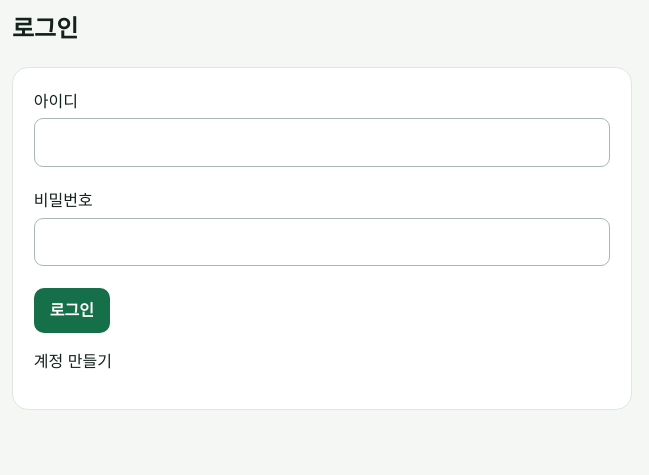
Test case: 폼 검증과 오류 표시 › 로그인 폼이 잘못된 아이디와 빈 비밀번호를 거부한다
Type "ab" into the field labelled "아이디" at (322, 142), box [34,118,610,167]
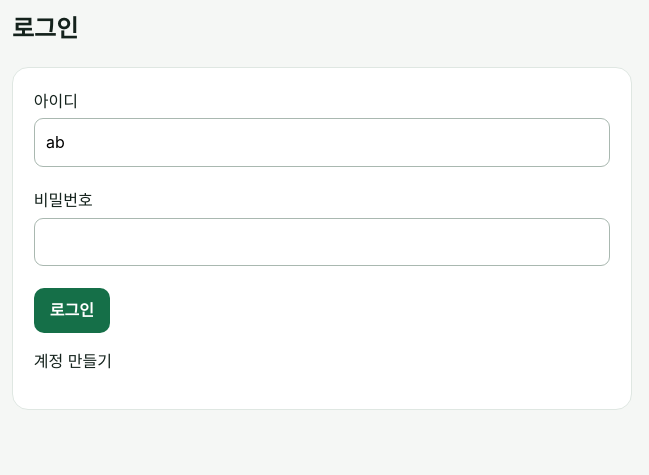
Click the button "로그인" at (72, 310), box [34,288,110,332]
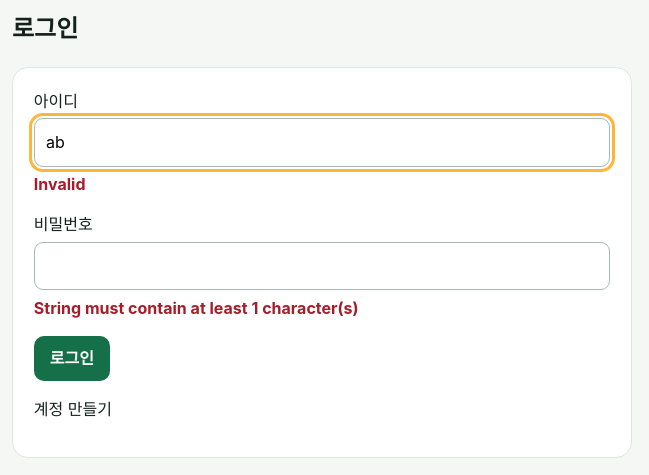
Expected: the text "Invalid" is shown, [34,174,86,194]
